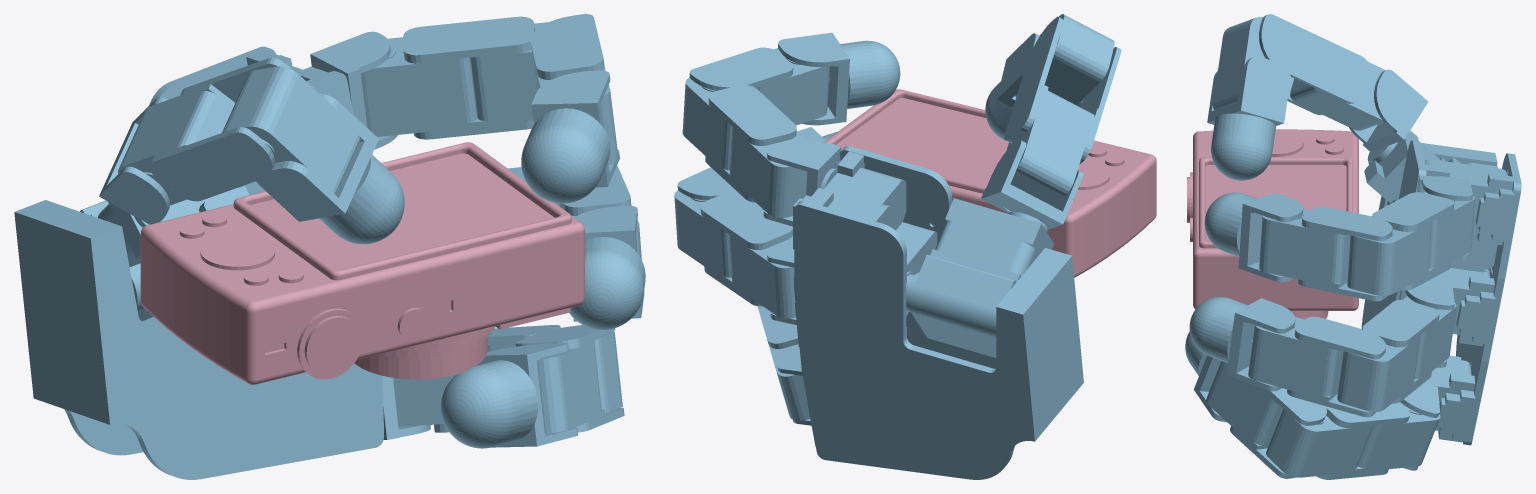
3 views of the same model, side by side, from view 1: azimuth 30°, elevation 25°; view 2: azimuth 150°, elevation 25°; view 3: azimuth 270°, elevation 25° (orthographic). The views are drawn at different scales.
Visible parts, largest first — view 1: world; view 2: world; view 3: world.
Boxes of the visible parts, x1=… form: world: x1=14, y1=14, x2=645, y2=479; world: x1=674, y1=14, x2=1156, y2=479; world: x1=1185, y1=14, x2=1521, y2=479.
Bounding box in the file's own units: 0.1738 × 0.1602 × 0.1313.
